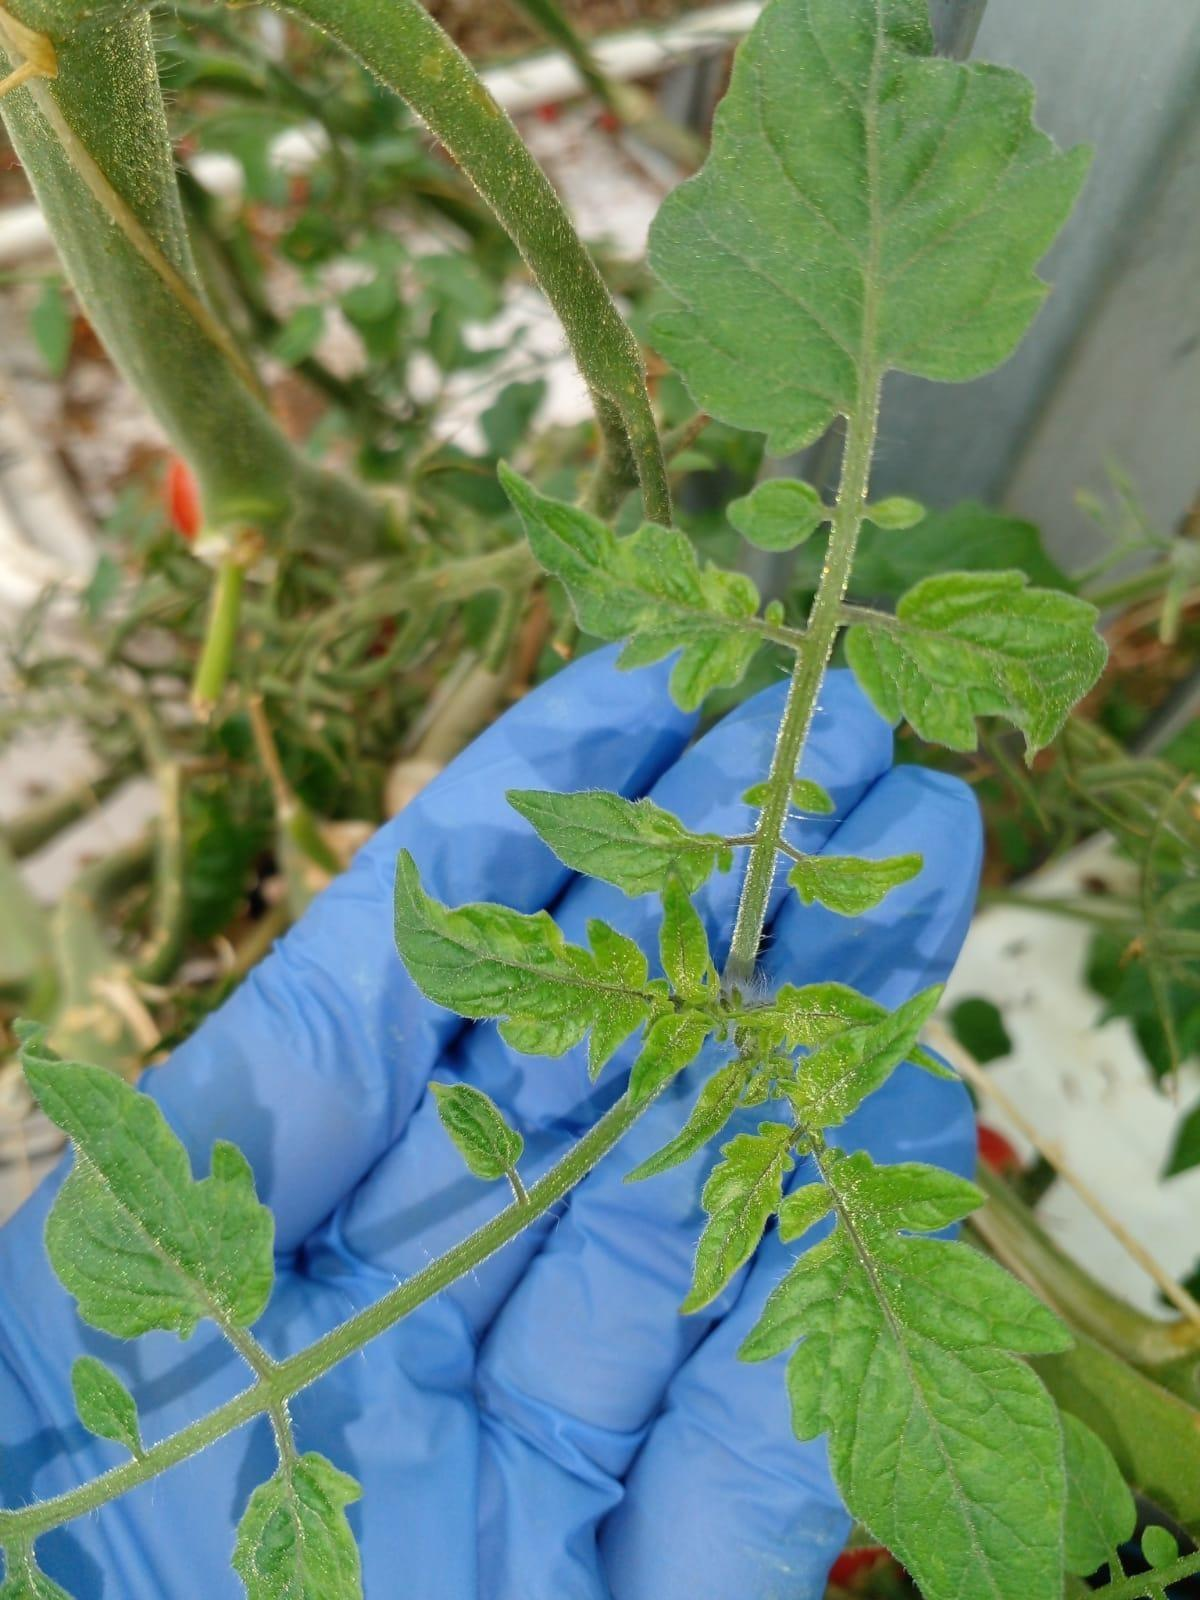Hoja rugoso: (650, 0, 1089, 451), (740, 1150, 1071, 1599), (20, 1054, 271, 1340), (500, 472, 763, 709), (393, 850, 659, 1077), (845, 569, 1108, 755), (507, 791, 731, 897), (681, 1121, 794, 1313), (790, 988, 939, 1128), (231, 1453, 363, 1599), (625, 1060, 750, 1179), (429, 1081, 524, 1198), (737, 981, 887, 1049), (628, 1009, 716, 1105), (788, 853, 921, 916), (659, 878, 718, 1007), (72, 1357, 144, 1456)
Pedunculo rugoso: (3, 1097, 650, 1550), (0, 0, 386, 553), (274, 0, 671, 523), (725, 350, 887, 984)
